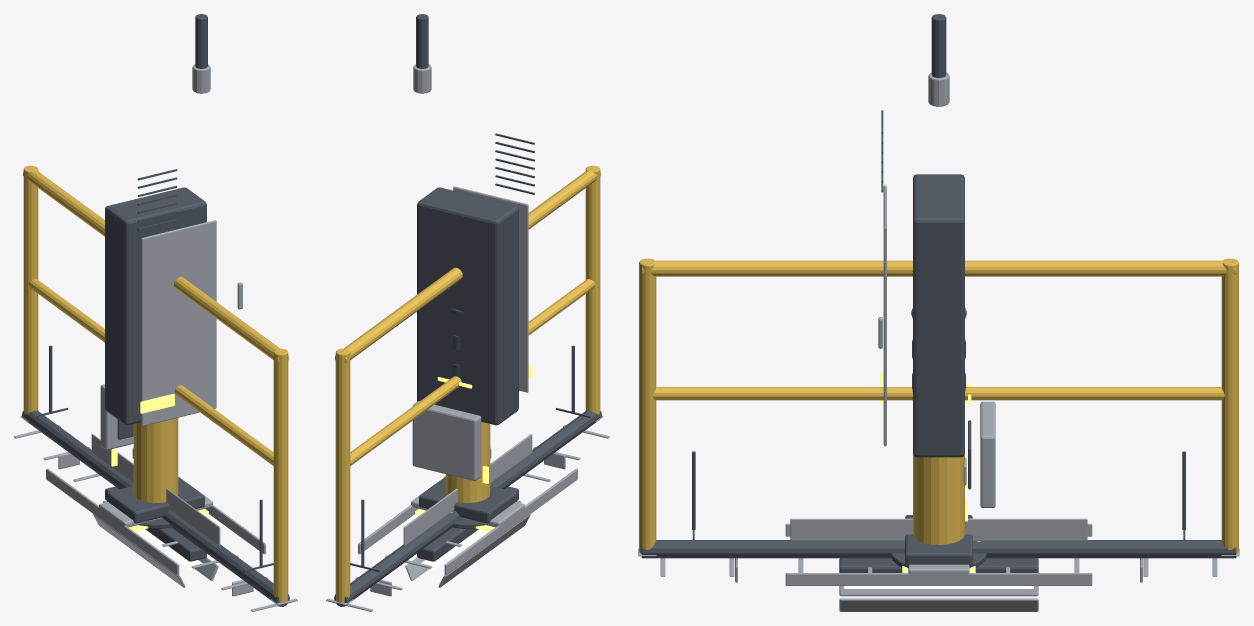
The model's file is kit.glb.
3 renders of one model, left to right at view 1: azimuth 30°, elevation 25°; view 2: azimuth 150°, elevation 25°; view 3: azimuth 270°, elevation 25°, orthographic. The views are drawn at different scales.
Parts seen in each view (by area): view 1: cabinet, railing, cabletray, bollard, dock, highbay; view 2: cabinet, railing, cabletray, dock, highbay, bollard; view 3: railing, cabinet, cabletray, highbay, bollard, dock.
Boxes of the visible parts, bbox=[...] form: cabinet: bbox=[99, 14, 242, 527]; railing: bbox=[20, 165, 291, 605]; cabletray: bbox=[14, 345, 297, 611]; bollard: bbox=[133, 418, 197, 528]; dock: bbox=[100, 384, 208, 531]; highbay: bbox=[58, 452, 253, 596]; cabinet: bbox=[411, 14, 534, 527]; railing: bbox=[332, 165, 603, 605]; cabletray: bbox=[326, 345, 609, 611]; dock: bbox=[412, 377, 516, 531]; highbay: bbox=[370, 452, 565, 596]; bollard: bbox=[426, 308, 490, 528]; railing: bbox=[638, 258, 1239, 556]; cabinet: bbox=[878, 14, 969, 574]; cabletray: bbox=[641, 451, 1236, 585]; highbay: bbox=[735, 558, 1142, 611]; bollard: bbox=[891, 308, 986, 567]; dock: bbox=[902, 382, 995, 572].
Bounding box in the file's own units: 0.465 × 2.21 × 1.96.
